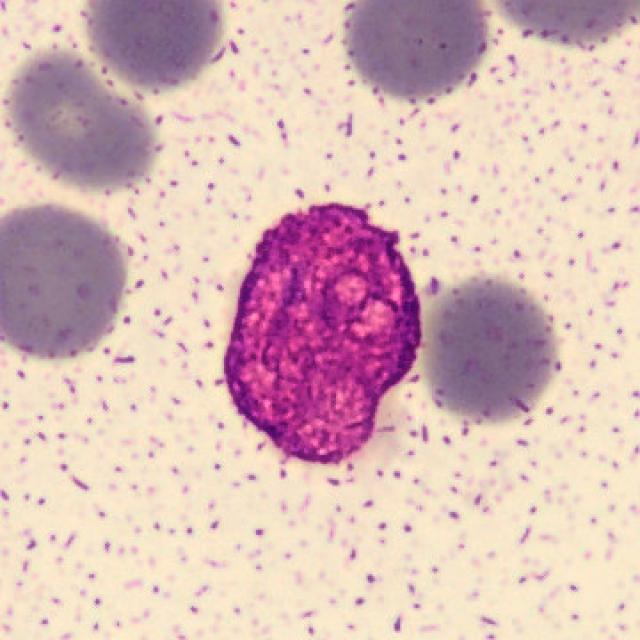Restos celulares: (224, 204, 421, 466)
